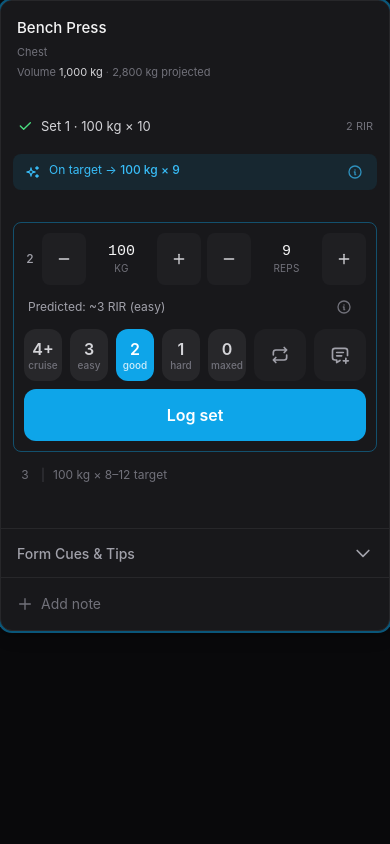
it: ExerciseCard › Live effort warning (SuggestionBanner) › clears the warning when the set is logged
Click the button named "Increase reps".
click(344, 259)  # box [322,233,366,285]
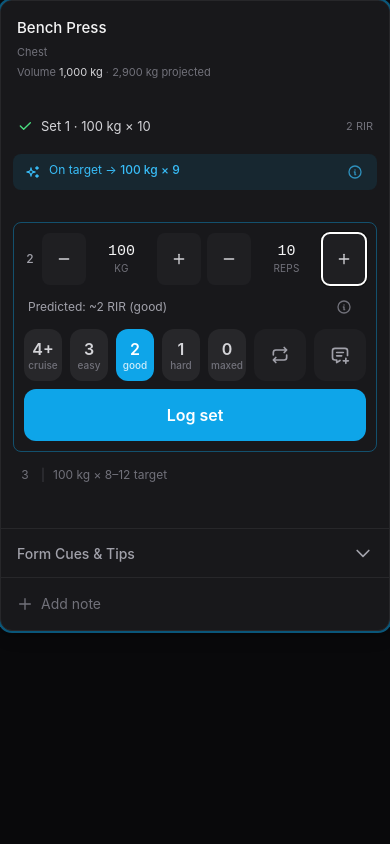
Click the button named "Increase reps".
click(344, 259)  # box [322,233,366,285]
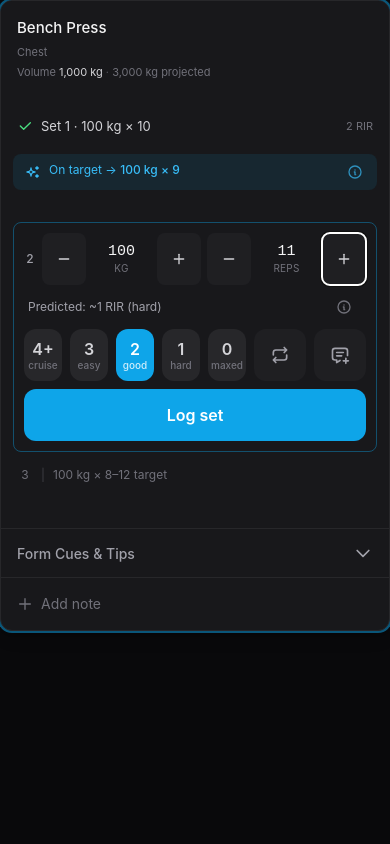
Click the button named "Increase reps".
click(344, 259)  # box [322,233,366,285]
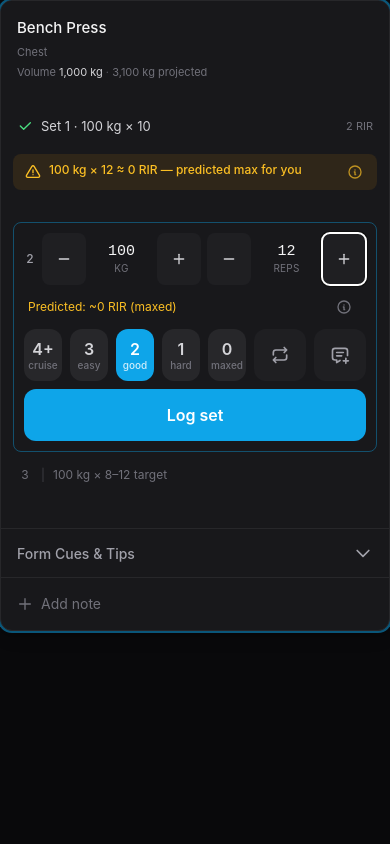
Result: the text "100 kg × 12 ≈ 0 RIR — predicted max for you" is shown at [49,162,337,178]
